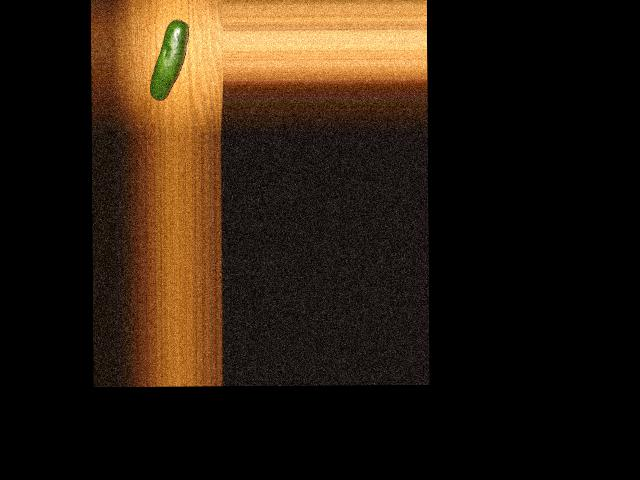cucumber: (150, 20, 189, 101)
